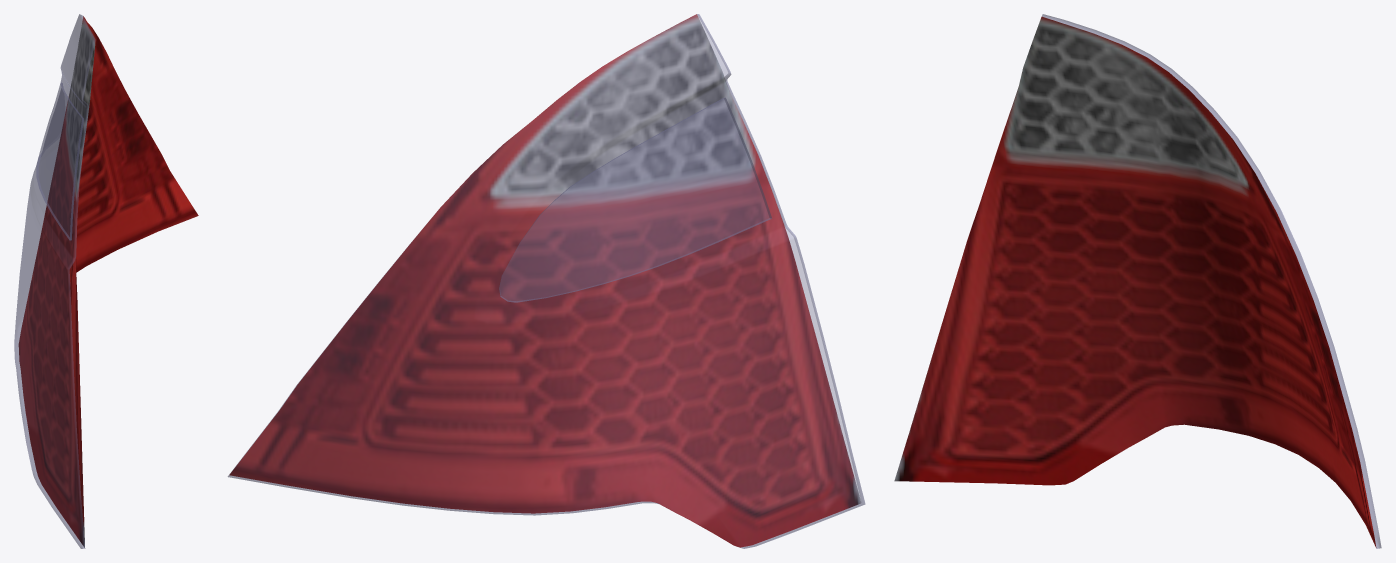
3 views of the same model, side by side, from view 1: azimuth 30°, elevation 25°; view 2: azimuth 150°, elevation 25°; view 3: azimuth 270°, elevation 25° (orthographic). The views are drawn at different scales.
Visible parts, largest first — view 1: P345_541C_L_P345_541C_L_2_N, P345_541C_L_1_DTaSI_P345_541C_L; view 2: P345_541C_L_1_DTaSI_P345_541C_L, P345_541C_L_P345_541C_L_2_N; view 3: P345_541C_L_P345_541C_L_2_N, P345_541C_L_1_DTaSI_P345_541C_L.
Boxes of the visible parts, <box> form: P345_541C_L_P345_541C_L_2_N: <box>18,16,198,548</box>; P345_541C_L_1_DTaSI_P345_541C_L: <box>14,14,95,548</box>; P345_541C_L_1_DTaSI_P345_541C_L: <box>228,14,865,548</box>; P345_541C_L_P345_541C_L_2_N: <box>230,14,861,547</box>; P345_541C_L_P345_541C_L_2_N: <box>894,16,1376,547</box>; P345_541C_L_1_DTaSI_P345_541C_L: <box>1042,14,1381,548</box>.
Size of the model in its own units: 27.47 by 35.51 by 30.9.
